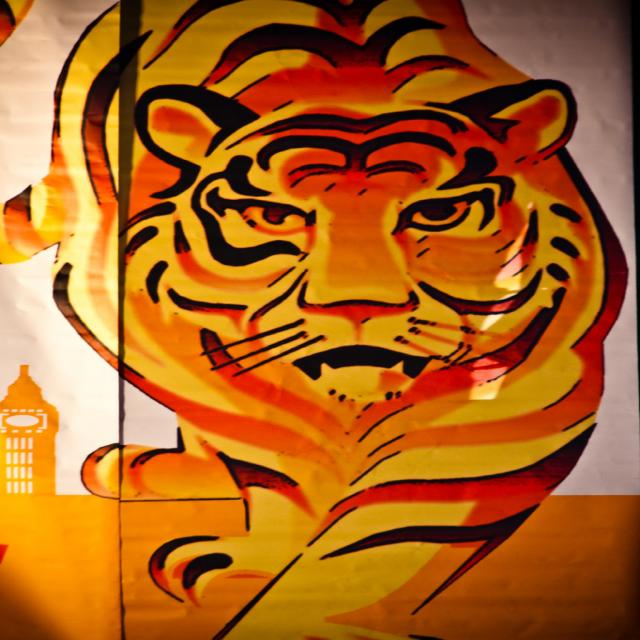Tiger: (0, 0, 626, 633)
